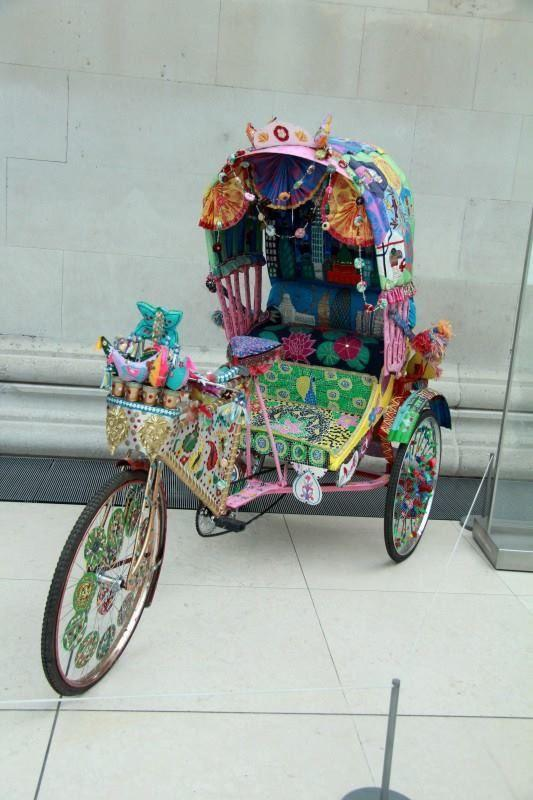Rickshaw: (42, 119, 449, 694)
